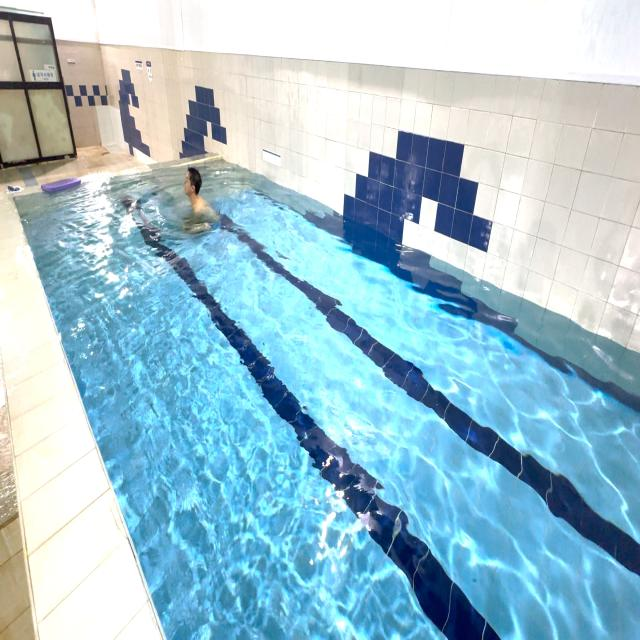Swimming: (174, 151, 224, 246)
